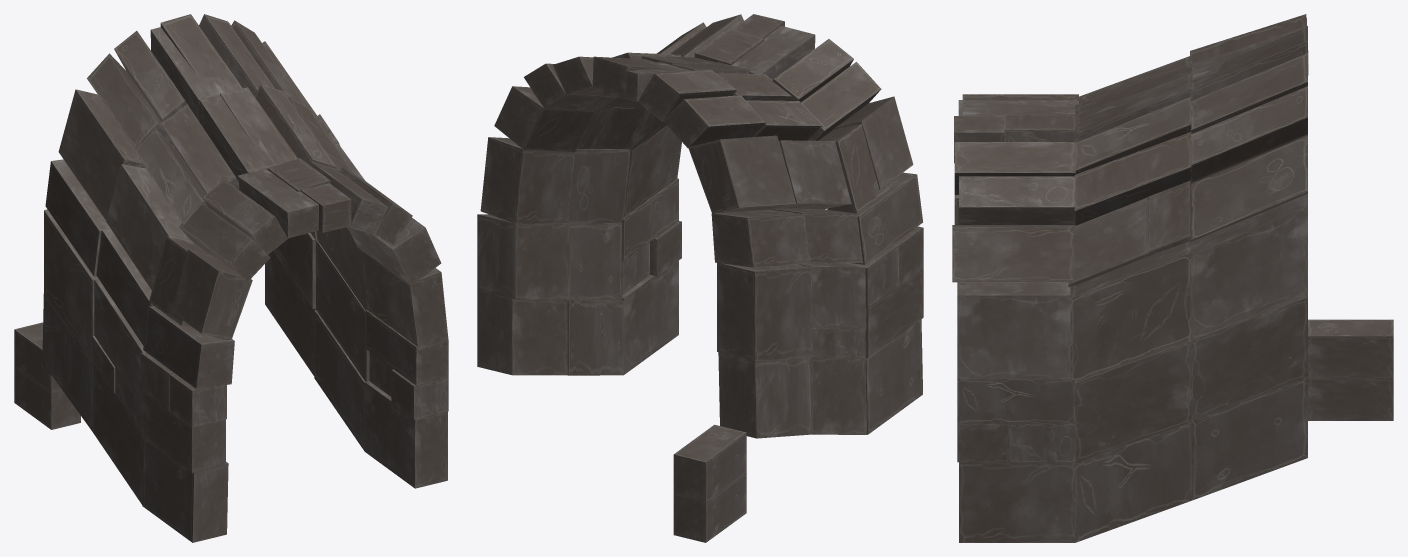
3 renders of one model, left to right at view 1: azimuth 30°, elevation 25°; view 2: azimuth 150°, elevation 25°; view 3: azimuth 270°, elevation 25°, orthographic. The views are drawn at different scales.
Visible parts, largest first — view 1: polySurface381, polySurface397, polySurface448, polySurface421, polySurface396, polySurface369, polySurface372, polySurface425, polySurface368, polySurface399, polySurface427, polySurface426 (+37 smaller); view 2: polySurface425, polySurface424, polySurface426, polySurface313, polySurface343, polySurface448, polySurface427, polySurface397, polySurface381, polySurface415, pCube25462, pCube25468 (+37 smaller); view 3: polySurface400, polySurface343, polySurface396, polySurface399, polySurface424, polySurface313, polySurface397, pCube25462, polySurface322, polySurface395, polySurface401, polySurface320 (+21 smaller).
Part boxes in pixels (x1,y1,x2,y2): polySurface381: (142,438,228,542); polySurface397: (364,381,447,488); polySurface448: (58,89,145,220); polySurface421: (106,164,192,289); polySurface396: (361,250,448,350); polySurface369: (171,249,252,340); polySurface372: (143,306,234,388); polySurface425: (44,209,97,360); polySurface368: (141,391,225,472); polySurface399: (316,240,369,381); polySurface427: (45,159,110,276); polySurface426: (42,292,93,431); polySurface425: (717,263,812,360); polySurface424: (477,214,570,299); polySurface426: (718,352,811,438); polySurface313: (477,290,567,375); polySurface343: (480,137,575,223); polySurface448: (688,135,795,213); polySurface427: (711,209,810,267); polySurface397: (621,260,678,374); polySurface381: (865,319,922,434); polySurface415: (810,357,866,434); pCube25462: (567,299,623,375); pCube25468: (673,424,746,502); polySurface400: (1070,241,1191,381); polySurface343: (1190,194,1307,339); polySurface396: (957,282,1070,379); polySurface399: (1074,338,1191,463); polySurface424: (1191,292,1307,419); polySurface313: (1191,377,1307,500); polySurface397: (959,462,1075,542); pCube25462: (1075,422,1191,542); polySurface322: (1190,134,1307,241); polySurface395: (952,225,1075,282); polySurface401: (1074,132,1191,225); polySurface320: (1191,86,1307,181).
Size of the model in its own units: 2.94 by 4.19 by 3.8.
